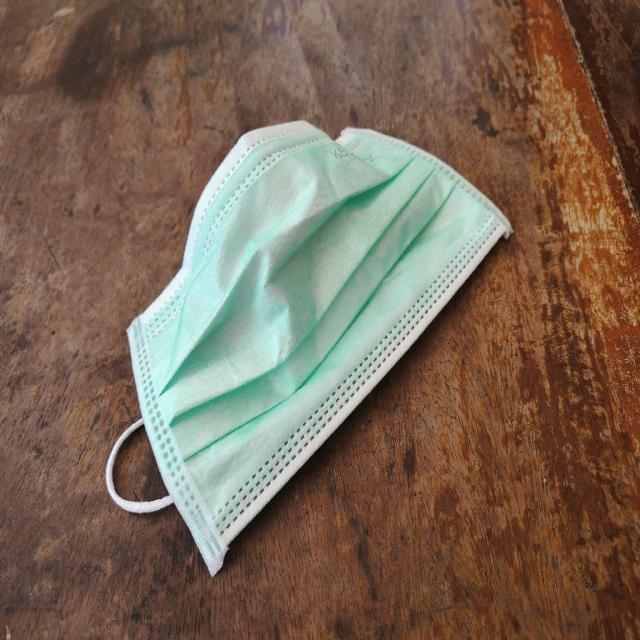non-organic waste: (98, 122, 510, 582)
